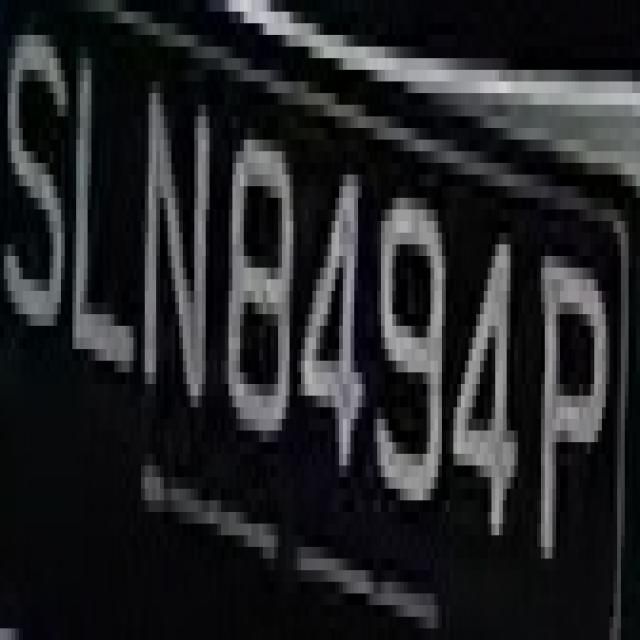4: (297, 163, 377, 477), (450, 221, 526, 547)
8: (225, 116, 305, 454)
9: (374, 174, 449, 547)
L: (69, 23, 137, 431)
N: (149, 70, 221, 419)
P: (522, 244, 613, 570)
S: (8, 12, 64, 384)
